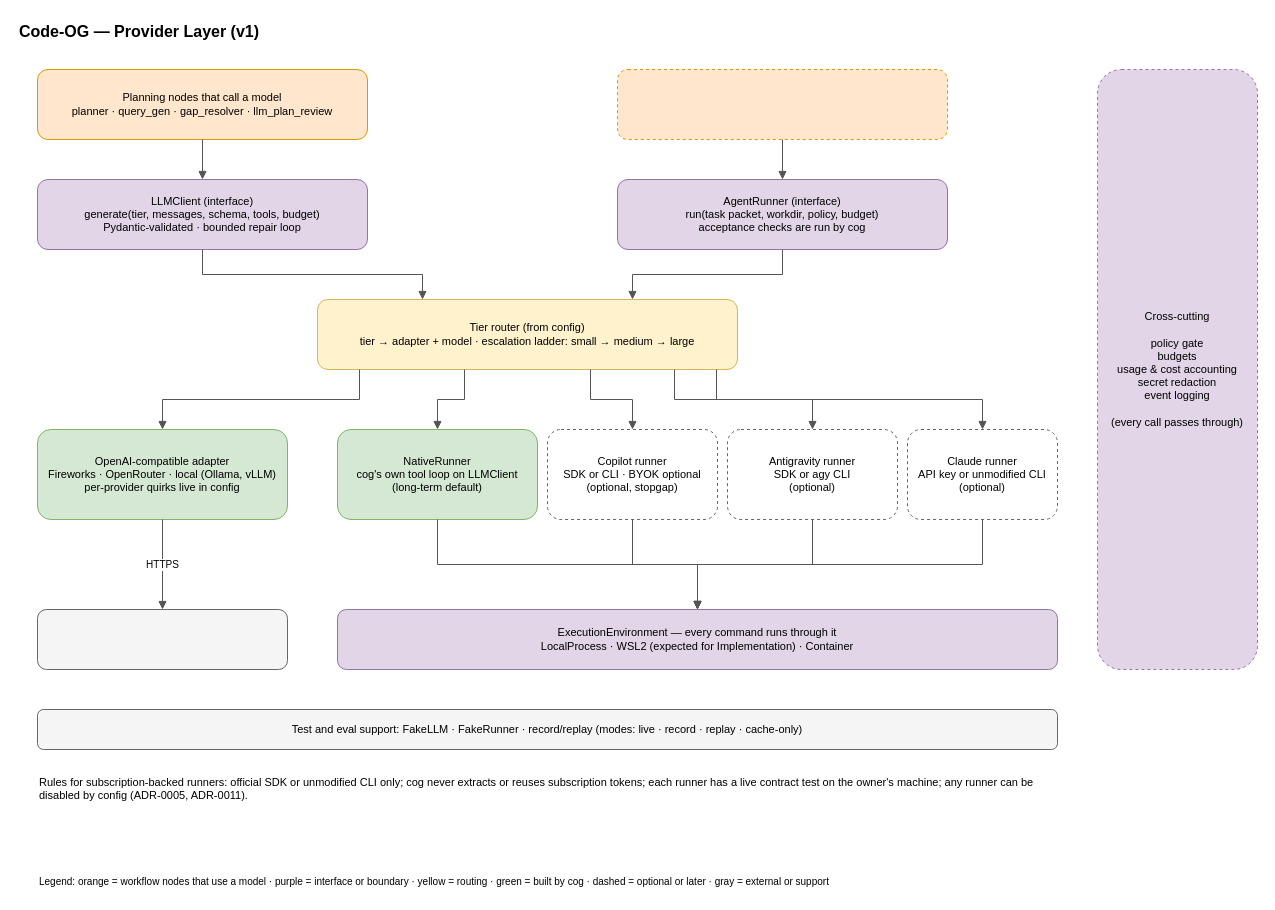
The diagram is 1275 pixels wide and 910 high, and some of its shapes have lost their labels. The box of each missing label's shape, as (x1, y1, x2, y2) in pixels:
Implementation executor runs a task packet in a worktree (designed later): (616, 68, 948, 140)
LLM endpoints Fireworks · OpenRouter · local servers: (36, 608, 288, 670)
